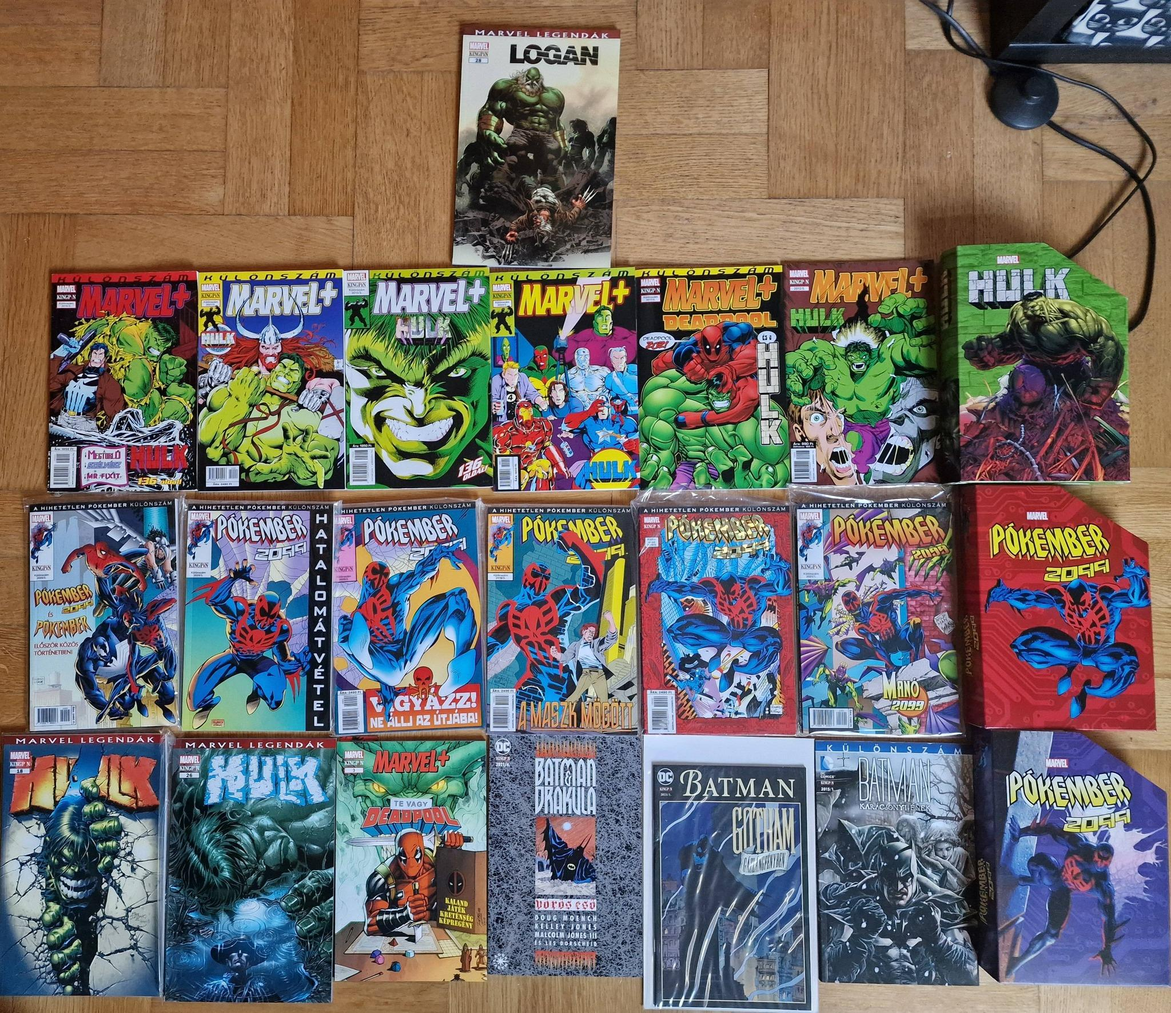comic: (975, 728, 1171, 987), (963, 483, 1155, 731), (163, 733, 338, 1005), (644, 736, 817, 1010), (940, 242, 1129, 482), (791, 484, 964, 741), (0, 731, 165, 996), (452, 21, 620, 271), (635, 494, 800, 739), (816, 740, 978, 986), (332, 738, 488, 982), (487, 734, 642, 978), (781, 259, 942, 487), (329, 501, 484, 735), (182, 501, 334, 733), (29, 498, 180, 731), (484, 507, 639, 733), (635, 266, 789, 490), (46, 268, 198, 493), (487, 270, 640, 492), (345, 267, 495, 489), (198, 271, 346, 491)
